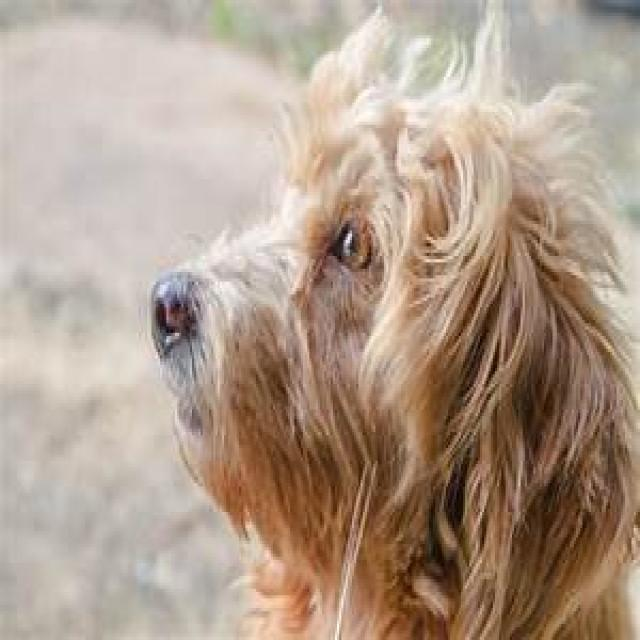dog: (152, 17, 634, 637)
